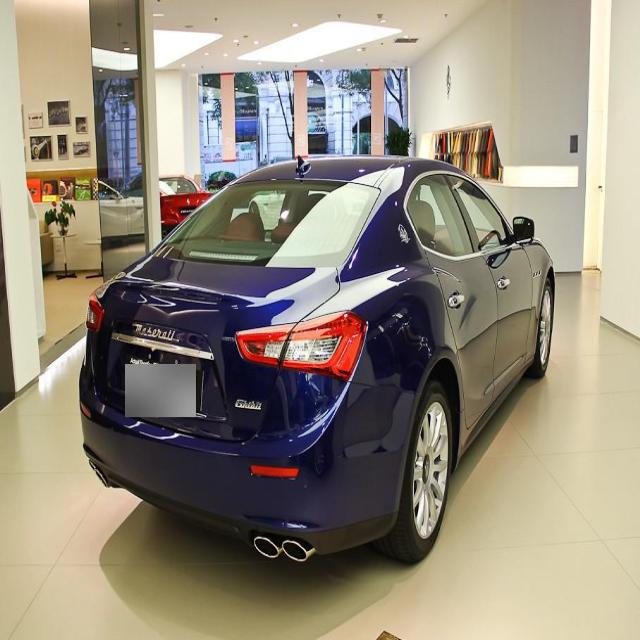back_glass: (152, 176, 384, 269)
back_left_side_light: (82, 288, 105, 334)
back_right_side_light: (234, 308, 367, 381)
front_right_side_door: (444, 169, 534, 409)
front_right_side_mirror: (509, 212, 536, 248)
rear_bumper: (78, 349, 408, 555)
wheel: (374, 383, 452, 562), (523, 281, 553, 380)
